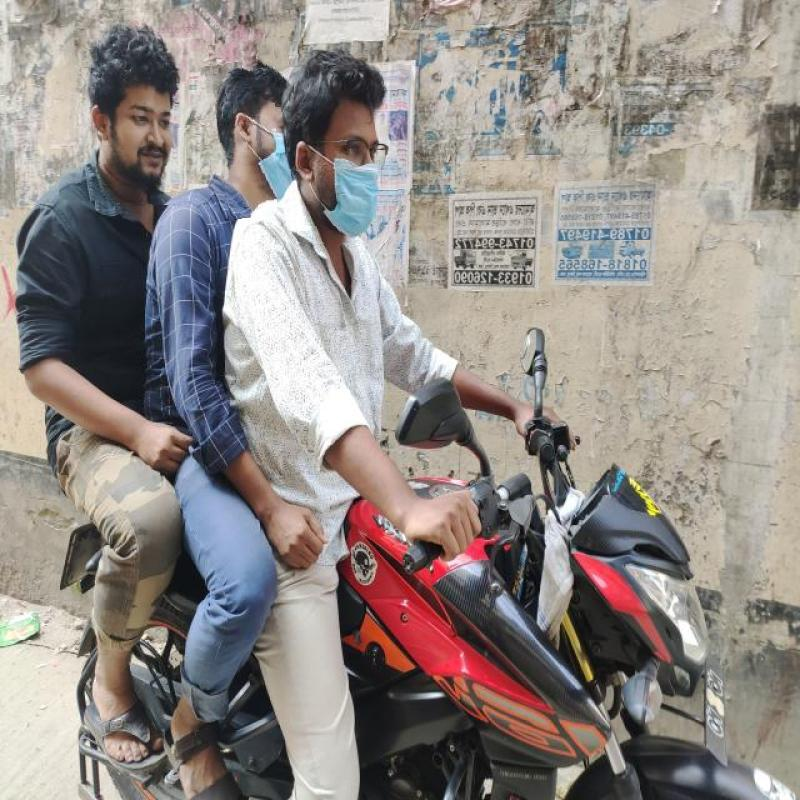nohelmet: (275, 36, 406, 244), (62, 10, 190, 204), (212, 38, 301, 218)
